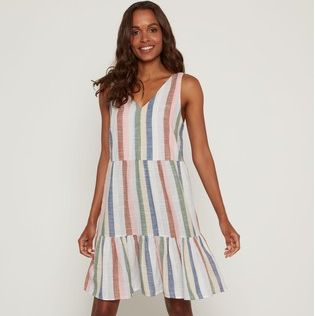C_dress: (85, 68, 225, 297)
